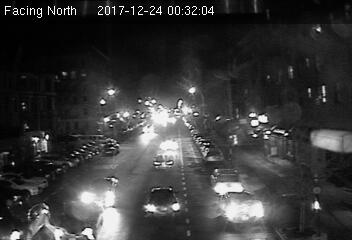car: (142, 186, 183, 219), (80, 174, 121, 207), (217, 191, 261, 221), (211, 166, 244, 193), (203, 144, 224, 165), (152, 152, 174, 171), (159, 137, 181, 153), (101, 141, 118, 157)
